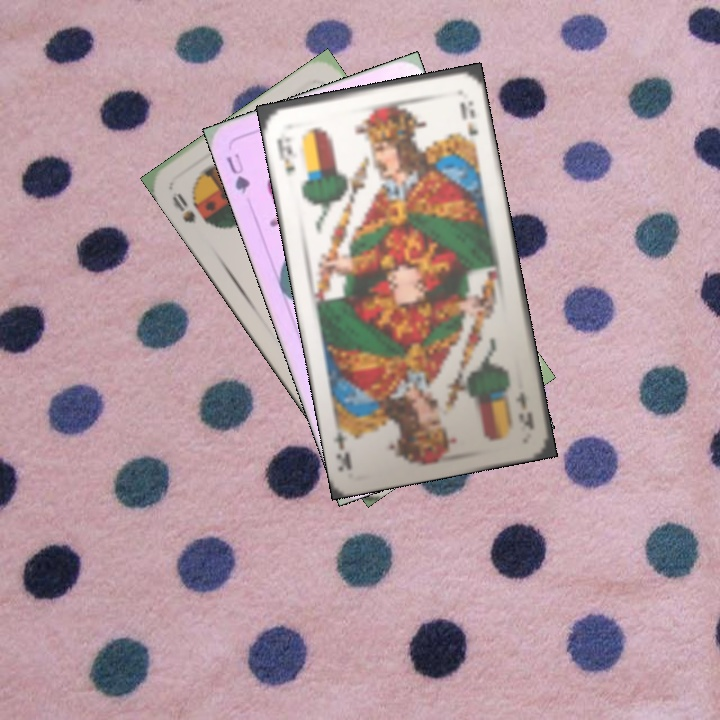EK: (511, 387, 537, 432), (272, 135, 298, 178)
GU: (222, 149, 253, 197)
SO: (167, 188, 199, 226)
